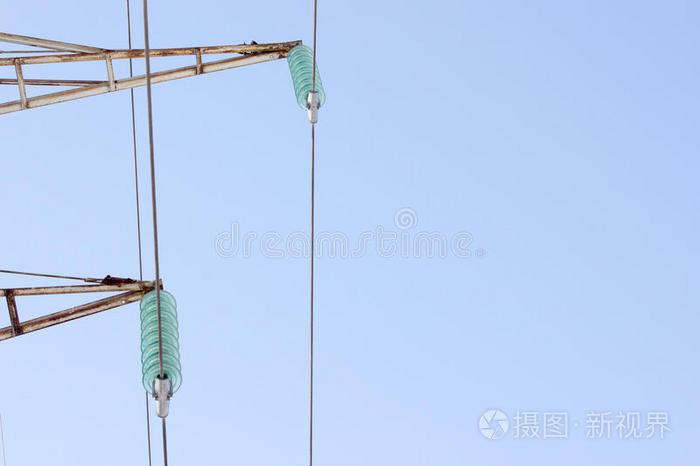insulator: (138, 286, 185, 396), (287, 43, 325, 110)
